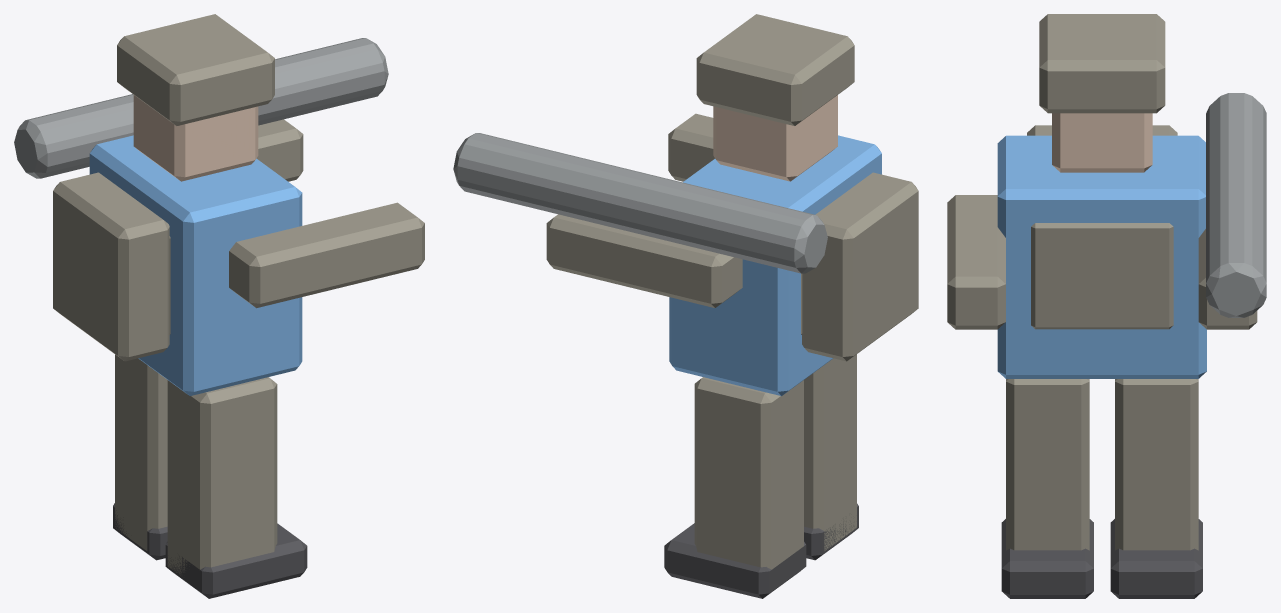
File: rocket_trooper.glb
3 views of the same model, side by side, from view 1: azimuth 30°, elevation 25°; view 2: azimuth 150°, elevation 25°; view 3: azimuth 270°, elevation 25° (orthographic). The views are drawn at different scales.
Parts seen in each view (by area): view 1: rocket_trooper; view 2: rocket_trooper; view 3: rocket_trooper.
Boxes of the visible parts, x1,y1,x2,y2 form: rocket_trooper: (14,14,424,598); rocket_trooper: (453,14,918,598); rocket_trooper: (947,14,1266,598).
Size of the model in its own units: 1.01 by 1.4 by 0.7623.
